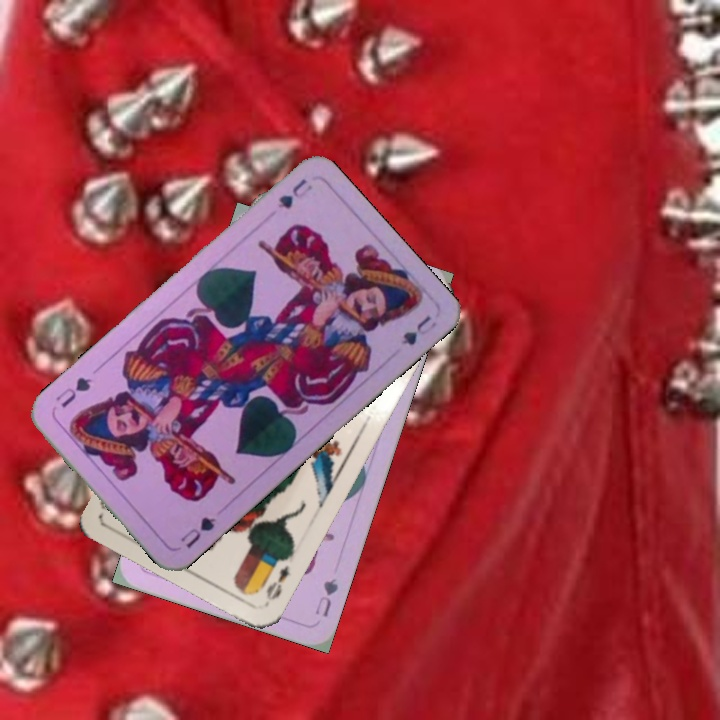EO: (261, 560, 292, 608)
GU: (176, 512, 218, 551), (273, 174, 315, 212), (311, 574, 341, 620)
